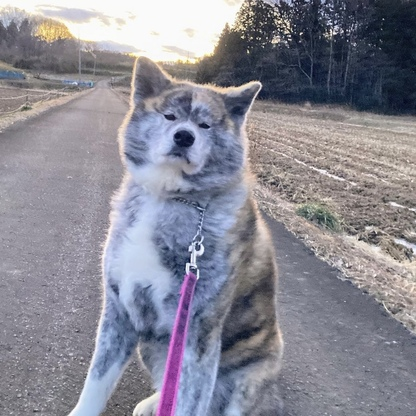akita: (59, 50, 298, 416)
